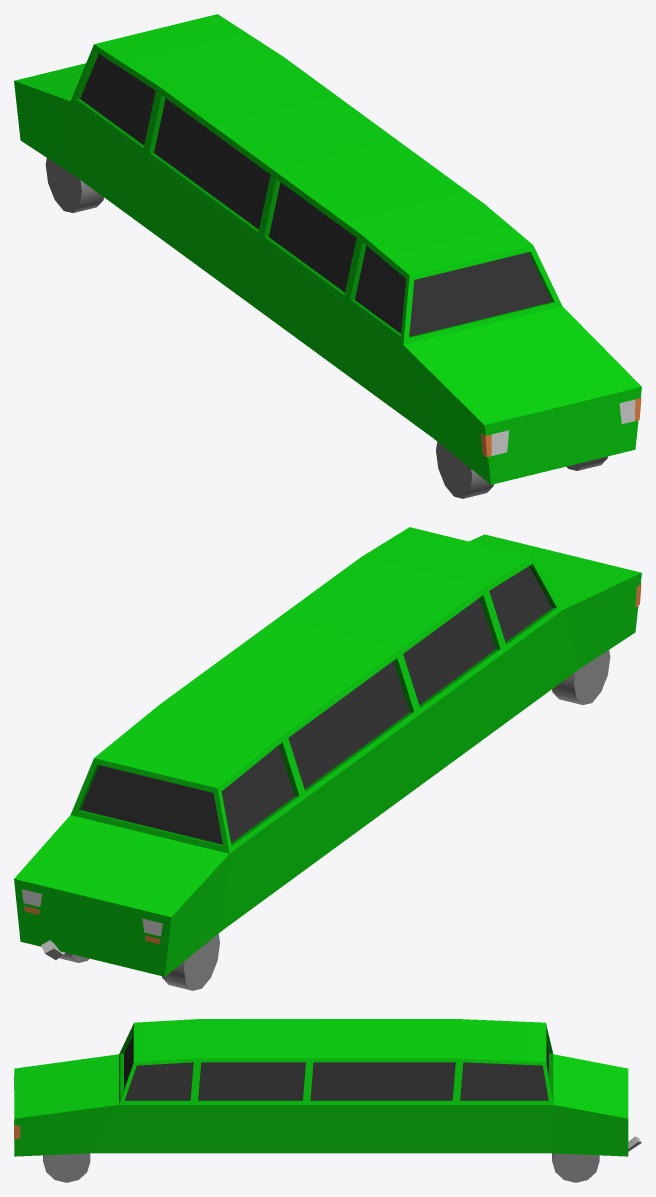
File: limo_02.fbx
The picture shows the model from 3 angles, top to bottom: view 1: azimuth 30°, elevation 25°; view 2: azimuth 150°, elevation 25°; view 3: azimuth 270°, elevation 25°; orthographic projection. The views are drawn at different scales.
Parts seen in each view (by area): view 1: limo_02; view 2: limo_02; view 3: limo_02.
Part boxes in pixels (<box>): limo_02: <box>14,14,641,498</box>; limo_02: <box>14,527,641,990</box>; limo_02: <box>14,1019,641,1182</box>.
Bounding box in the file's own units: 1.6 × 1.8 × 8.39.
